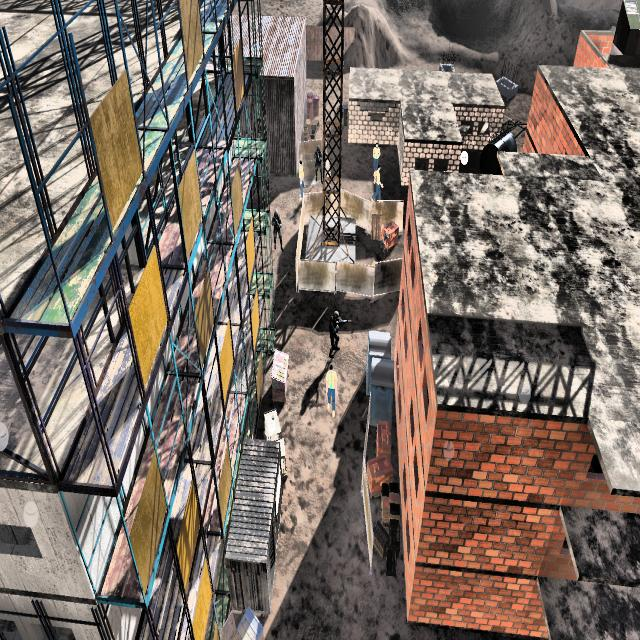bad: (326, 298, 350, 359), (270, 202, 284, 257), (314, 139, 324, 189)
good: (322, 361, 340, 424), (297, 154, 307, 205), (370, 164, 384, 200), (372, 136, 381, 168)
